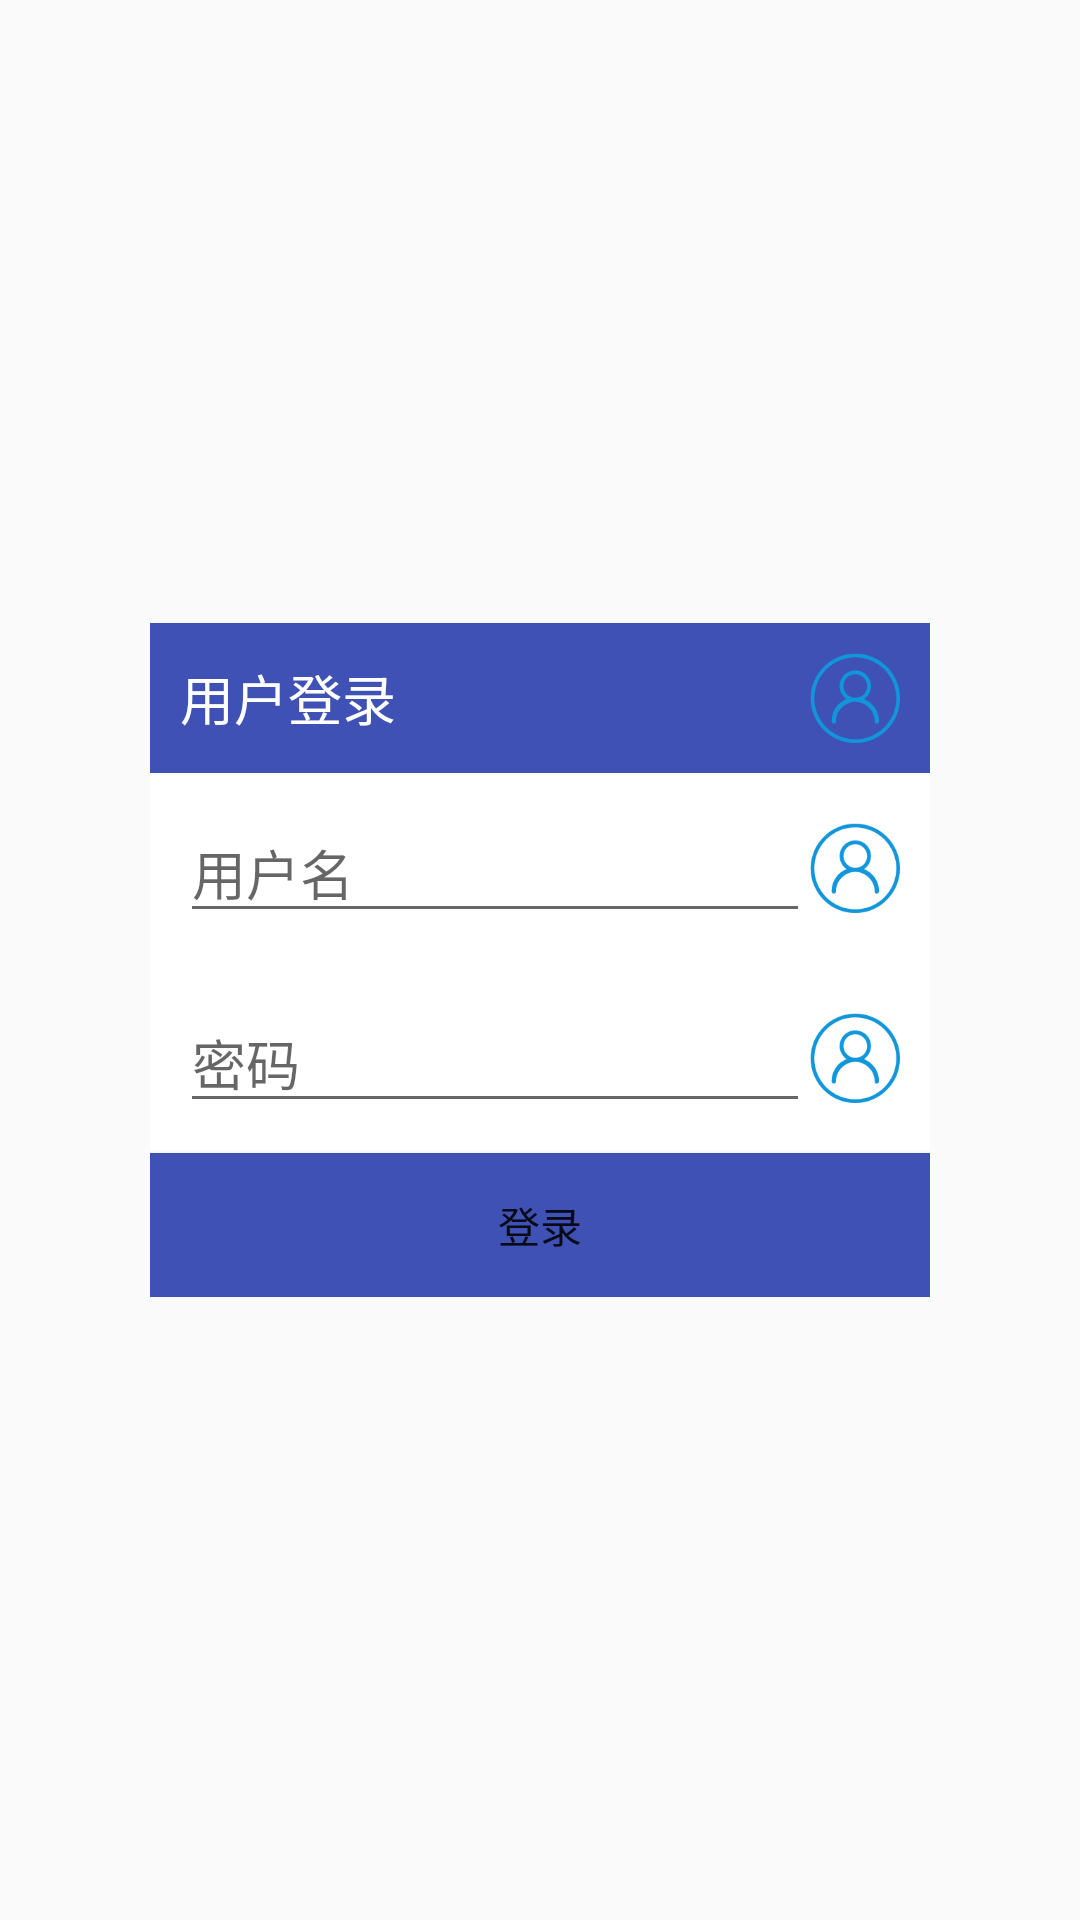

Named icons in this screenshot (1080px x 1920px) and their bounding boxes, (x1, y1, x2, y2):
user: (811, 654, 900, 743), (810, 823, 900, 913), (810, 1013, 900, 1103)
